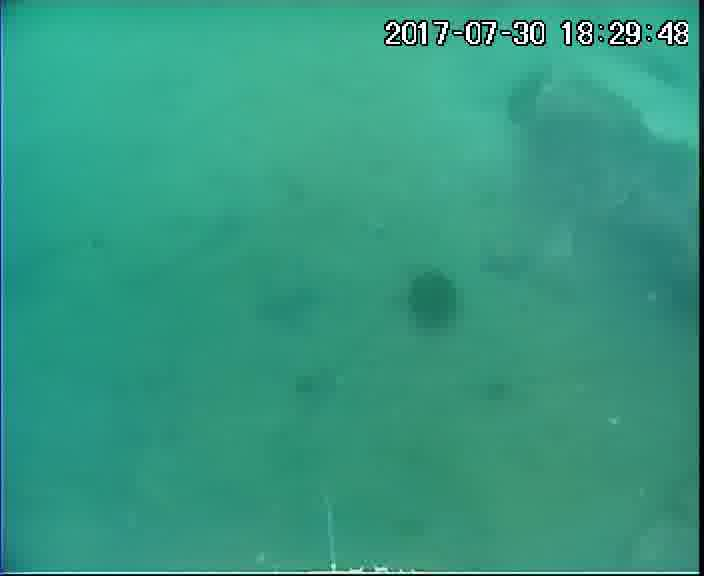echinus: (405, 269, 463, 331), (506, 74, 549, 128)
